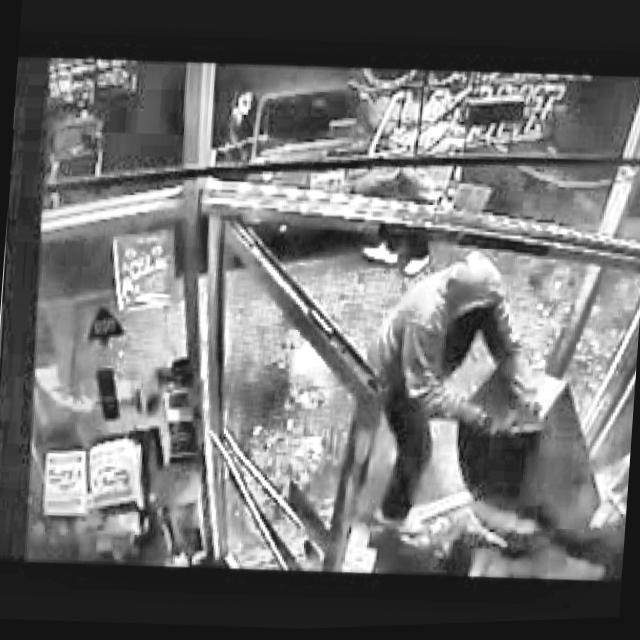burglary: (353, 239, 624, 564), (243, 61, 412, 205)
